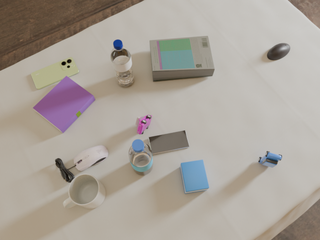book: (33, 76, 95, 133), (150, 36, 215, 82)
bottle: (110, 40, 134, 87), (129, 139, 153, 175)
box: (180, 160, 209, 194)
cup: (63, 174, 106, 209)
mouse: (74, 145, 108, 171), (267, 43, 290, 60)
phone: (31, 57, 79, 89), (149, 130, 189, 155)
toy_car: (259, 151, 282, 167), (136, 115, 152, 134)
